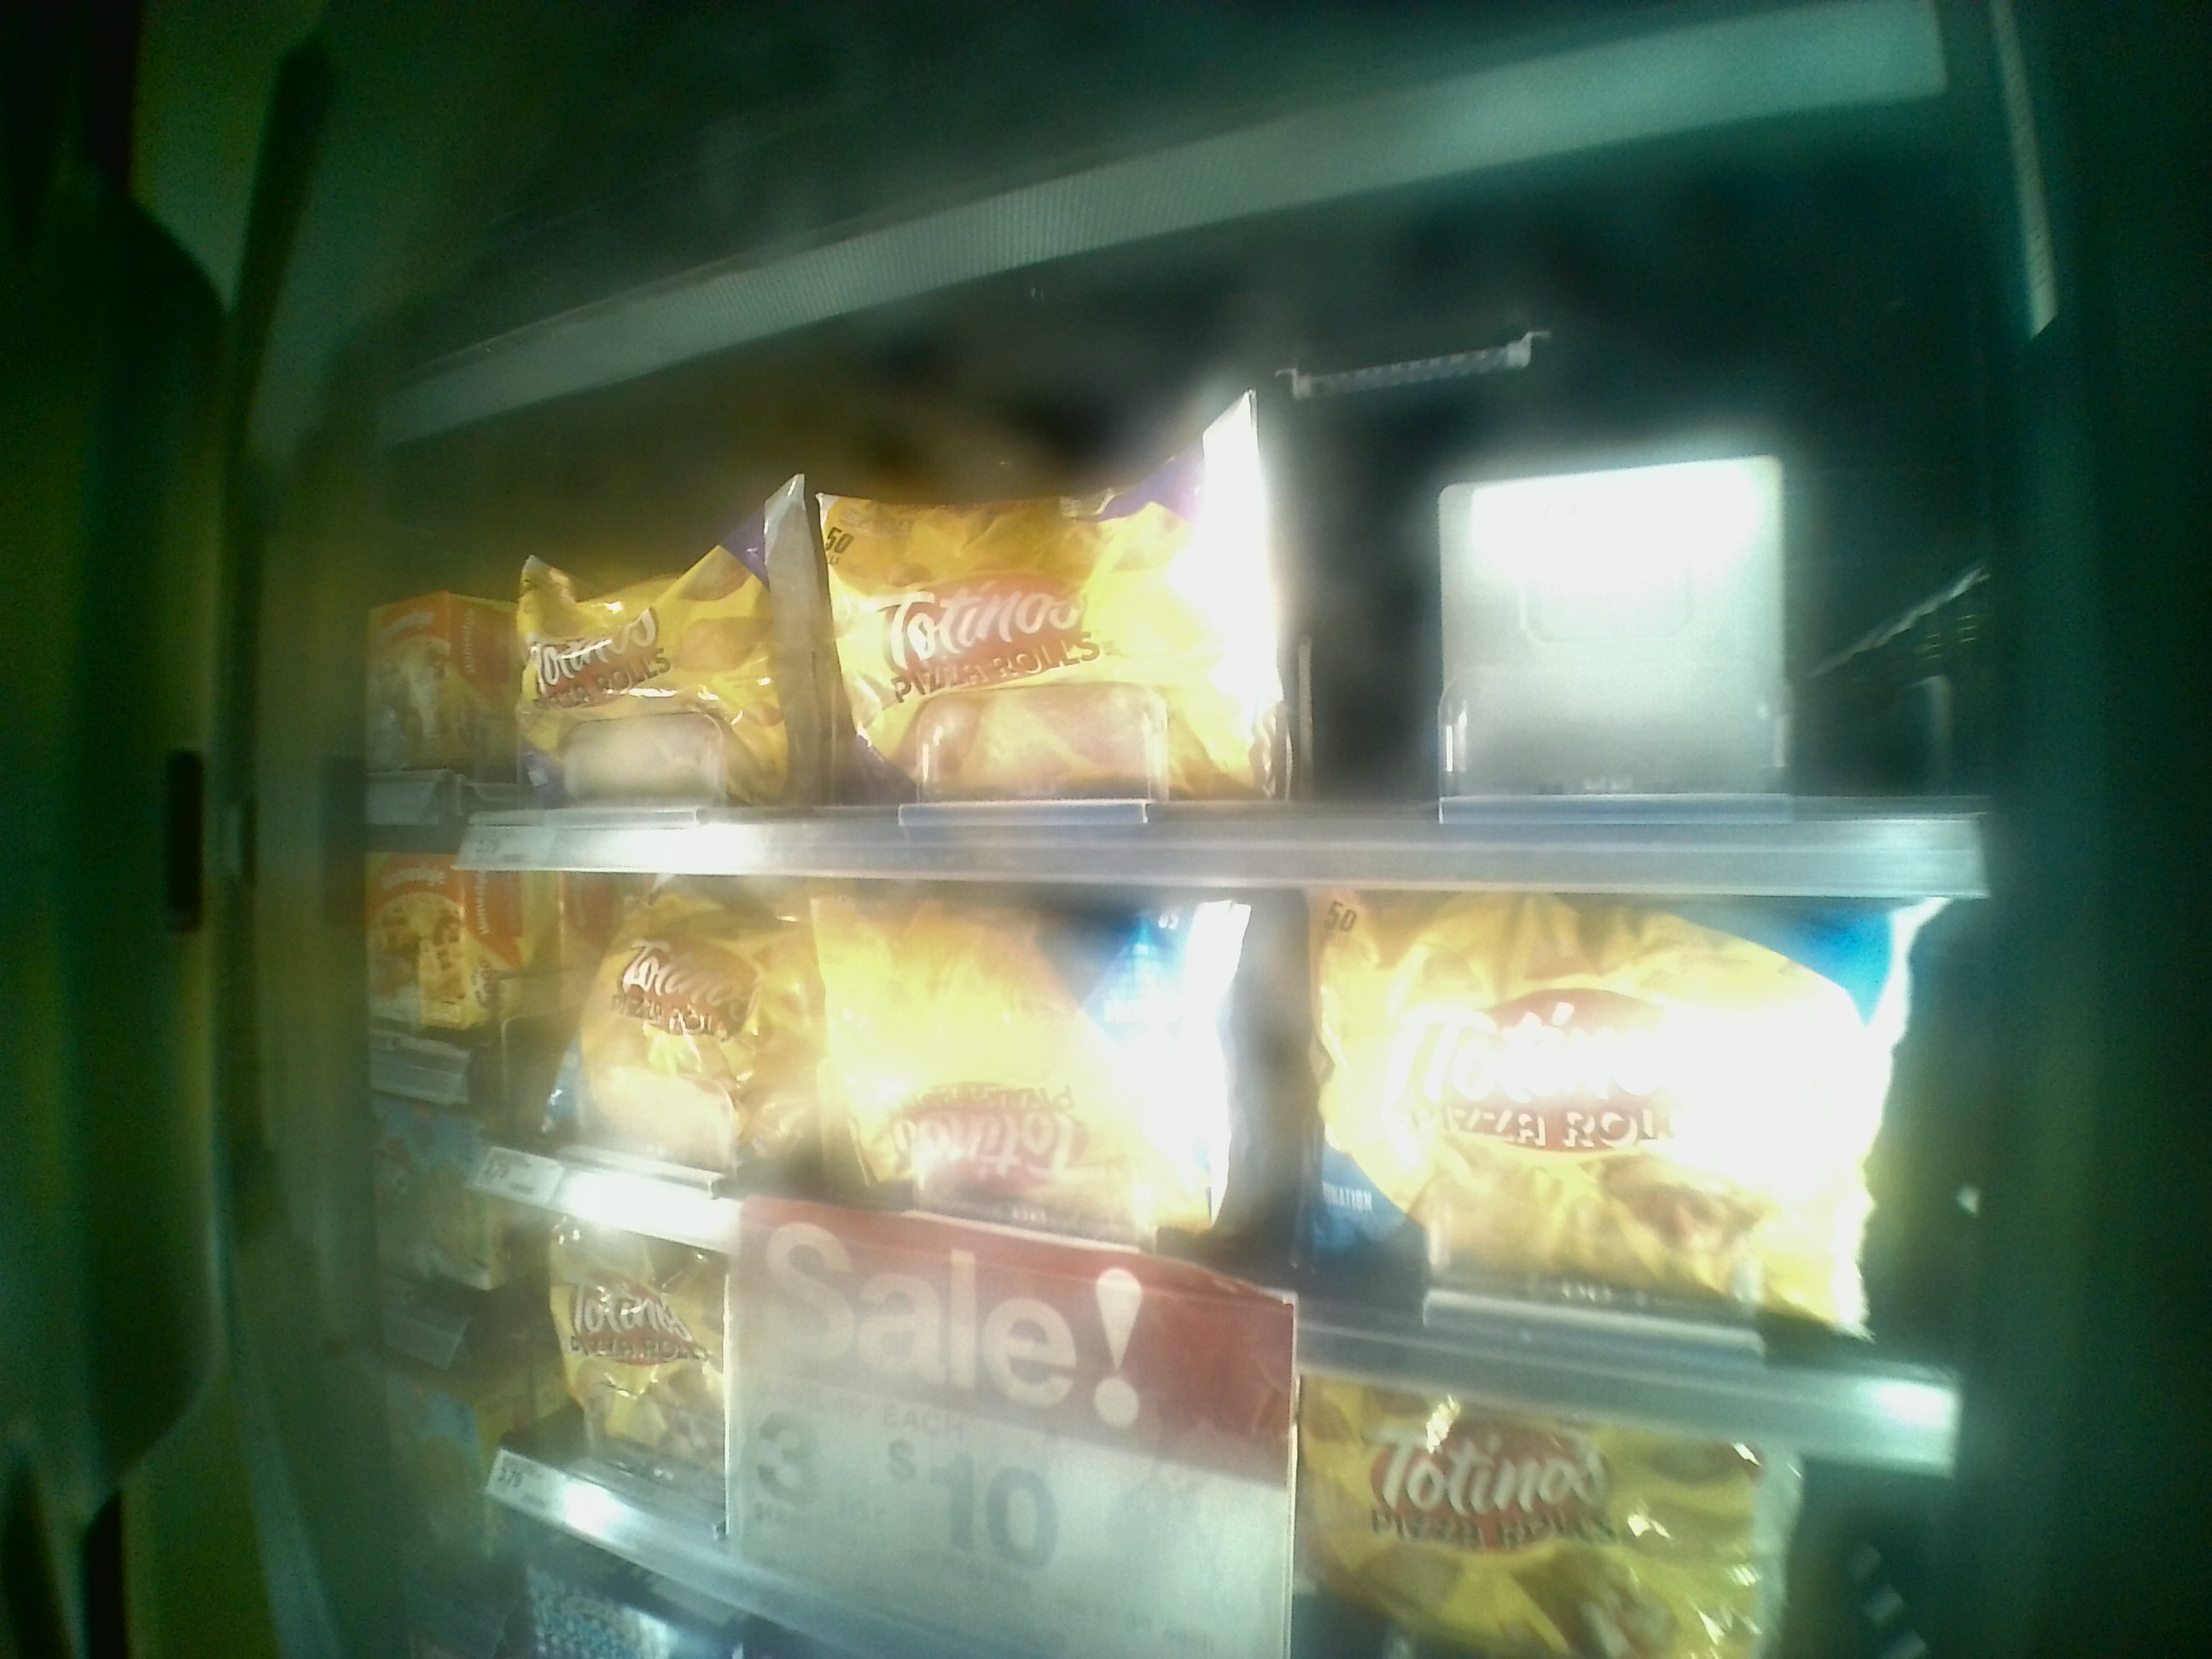shelf: (340, 866, 1982, 1466), (341, 359, 2005, 901)
